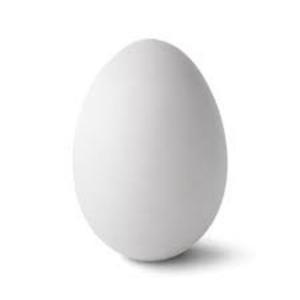Egg: (69, 36, 235, 265)
